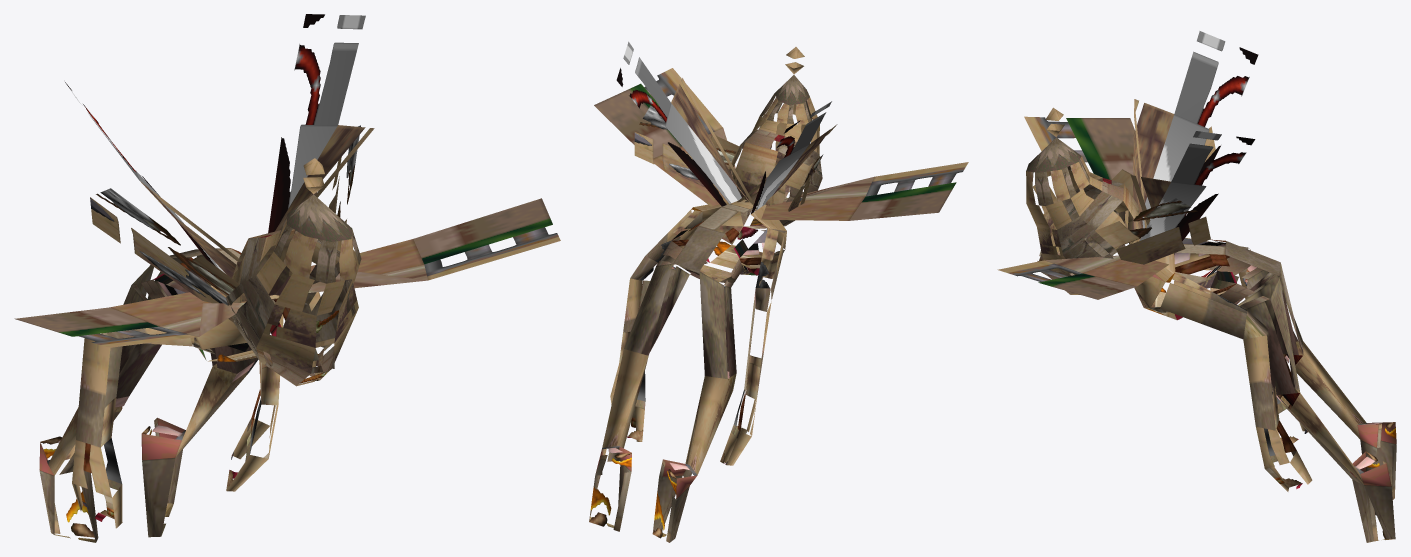
The picture shows the model from 3 angles, left to right: view 1: azimuth 30°, elevation 25°; view 2: azimuth 150°, elevation 25°; view 3: azimuth 270°, elevation 25°; orthographic projection. The views are drawn at different scales.
Parts seen in each view (by area): view 1: T1L3M003_1; view 2: T1L3M003_1; view 3: T1L3M003_1.
Boxes of the visible parts, x1,y1,x2,y2 form: T1L3M003_1: (14,14,560,542); T1L3M003_1: (589,41,968,542); T1L3M003_1: (997,31,1396,542).
Bounding box in the file's own units: 0.4007 × 0.4511 × 0.3537.
